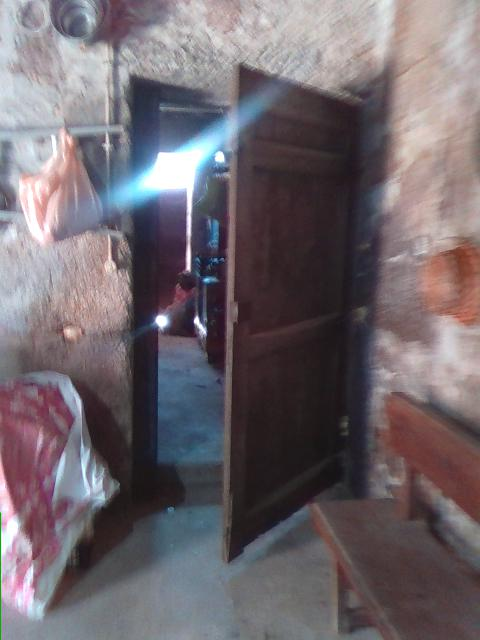semi_door: (129, 59, 369, 563)
